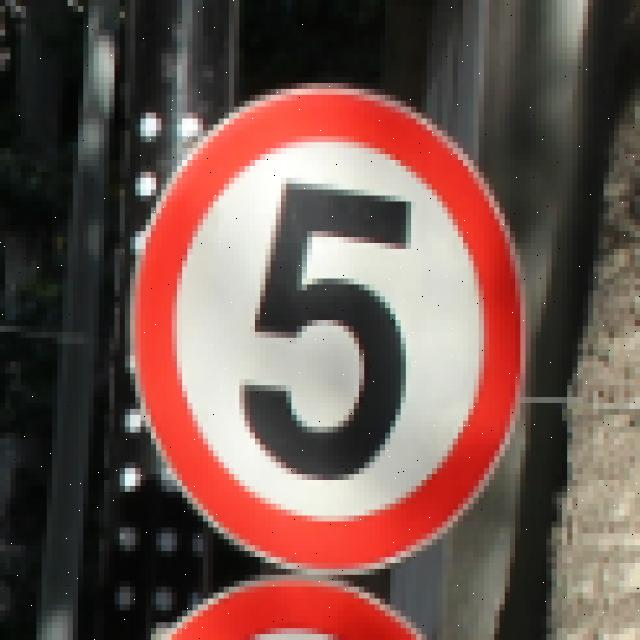speed limit 10: (135, 88, 525, 578)
